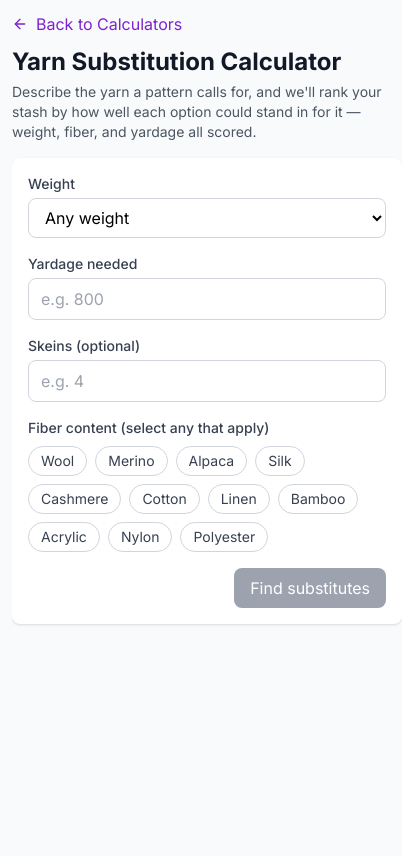
Test: YarnSubstitutionCalculator › shows an error message on API failure
Click the button "wool": (58, 461) [28, 446, 87, 476]
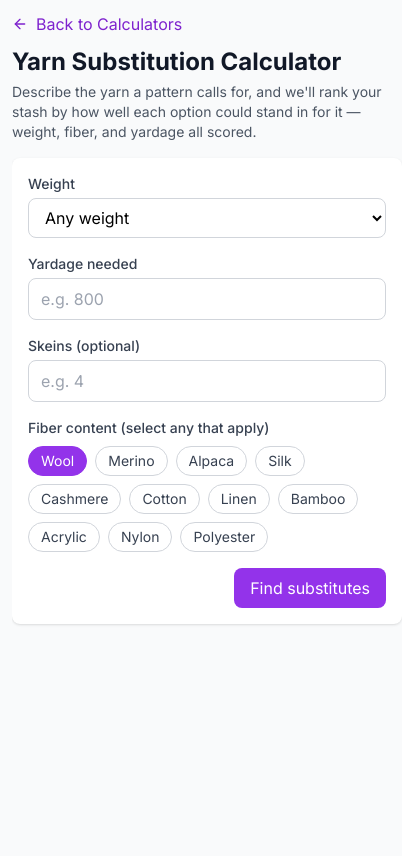
Click the button "Find substitutes": (310, 588) [234, 568, 386, 608]
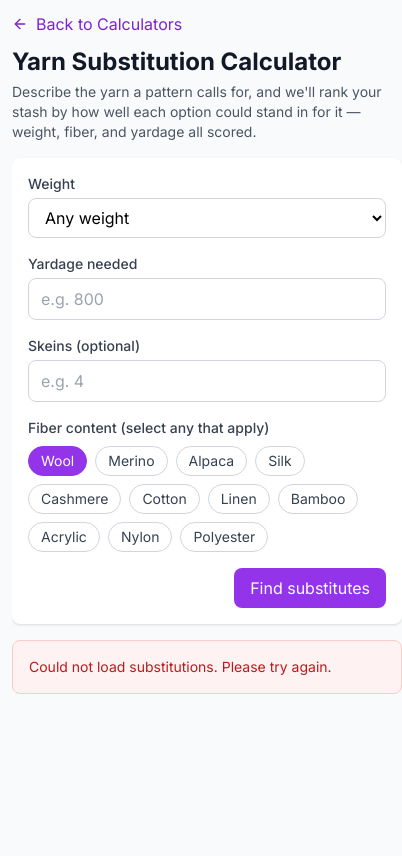
expect the text "Could not load substitutions. Please try again." is shown: met, box [12, 640, 401, 694]
